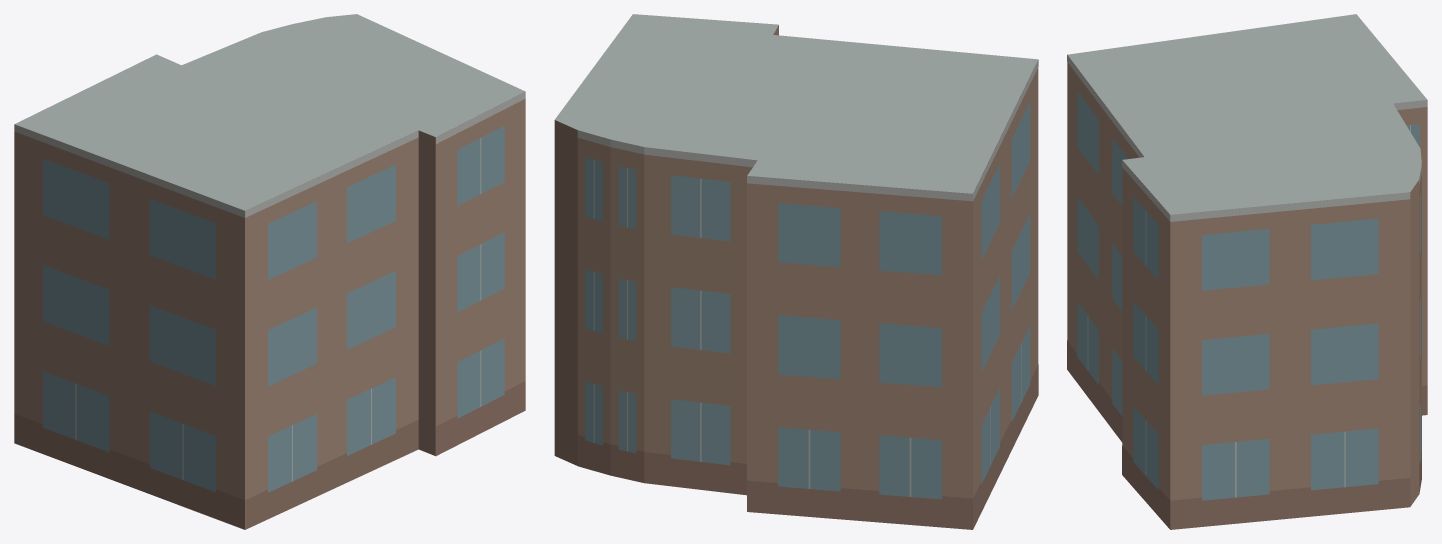
File: survey-upis-32862304.glb
3 views of the same model, side by side, from view 1: azimuth 30°, elevation 25°; view 2: azimuth 150°, elevation 25°; view 3: azimuth 270°, elevation 25° (orthographic). The views are drawn at different scales.
Visible parts, largest first — view 1: survey-upis-32862304.tmp; view 2: survey-upis-32862304.tmp; view 3: survey-upis-32862304.tmp.
Part boxes in pixels (x1,y1,x2,y2): survey-upis-32862304.tmp: [14, 14, 525, 529]; survey-upis-32862304.tmp: [554, 14, 1038, 529]; survey-upis-32862304.tmp: [1067, 14, 1427, 529].
Size of the model in its own units: 14.92 by 10.9 by 11.31.
